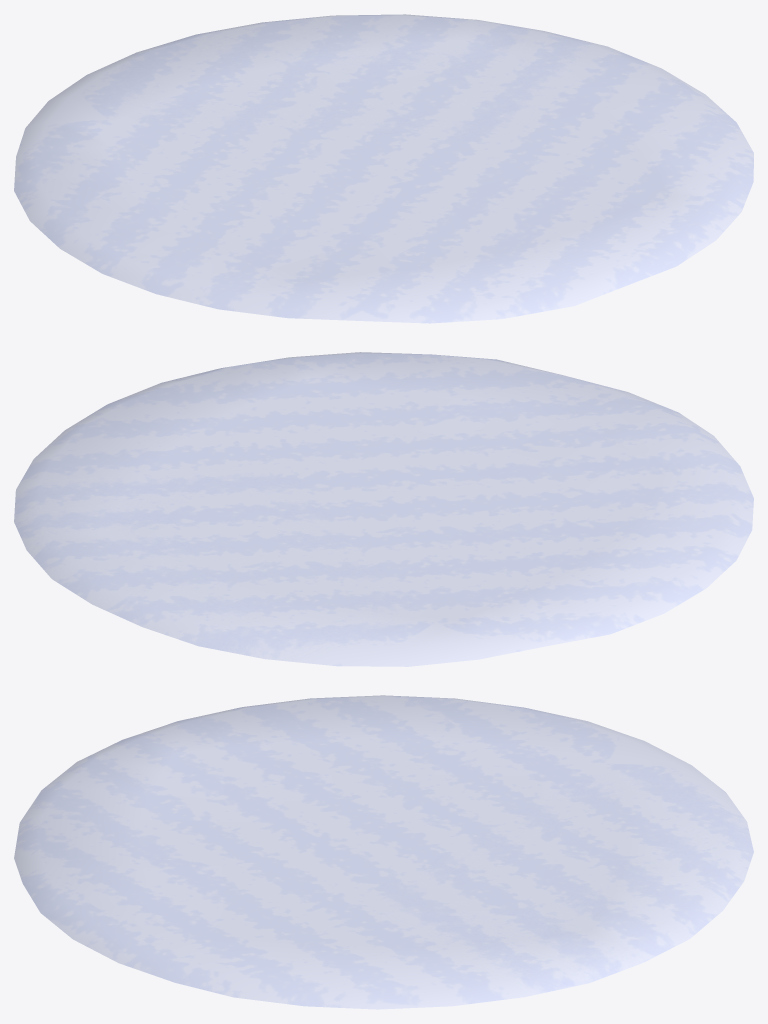
File: Platform_Circular_Small_Ground.fbx
The picture shows the model from 3 angles, top to bottom: view 1: azimuth 30°, elevation 25°; view 2: azimuth 150°, elevation 25°; view 3: azimuth 270°, elevation 25°; orthographic projection.
Visible parts, largest first — view 1: Small Platform_Ground; view 2: Small Platform_Ground; view 3: Small Platform_Ground.
Part boxes in pixels (<box>): Small Platform_Ground: <box>14,14,753,323</box>; Small Platform_Ground: <box>14,352,753,666</box>; Small Platform_Ground: <box>14,695,753,1009</box>.
Size of the model in its own units: 90.22 by 4116 by 4108.
1 material, 1 textured.
